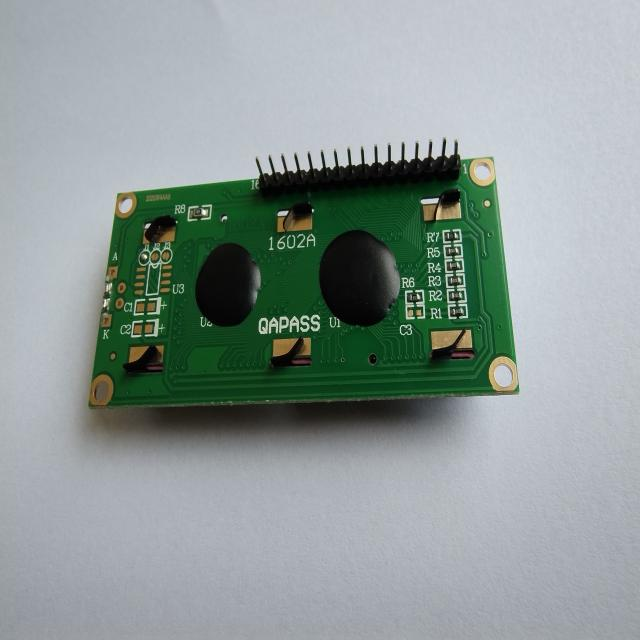lcd: (87, 138, 521, 411)
